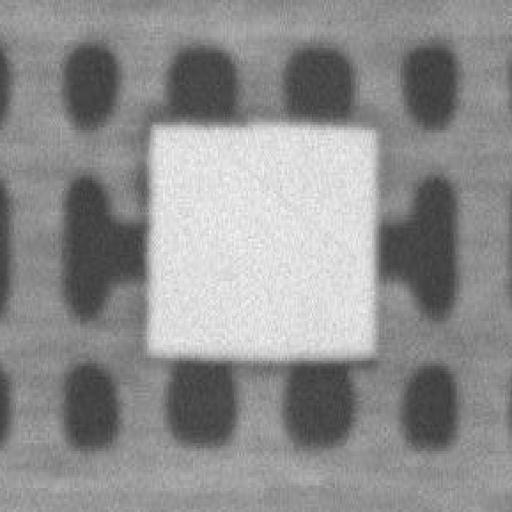DIE_CRACK: (345, 103, 512, 170)
